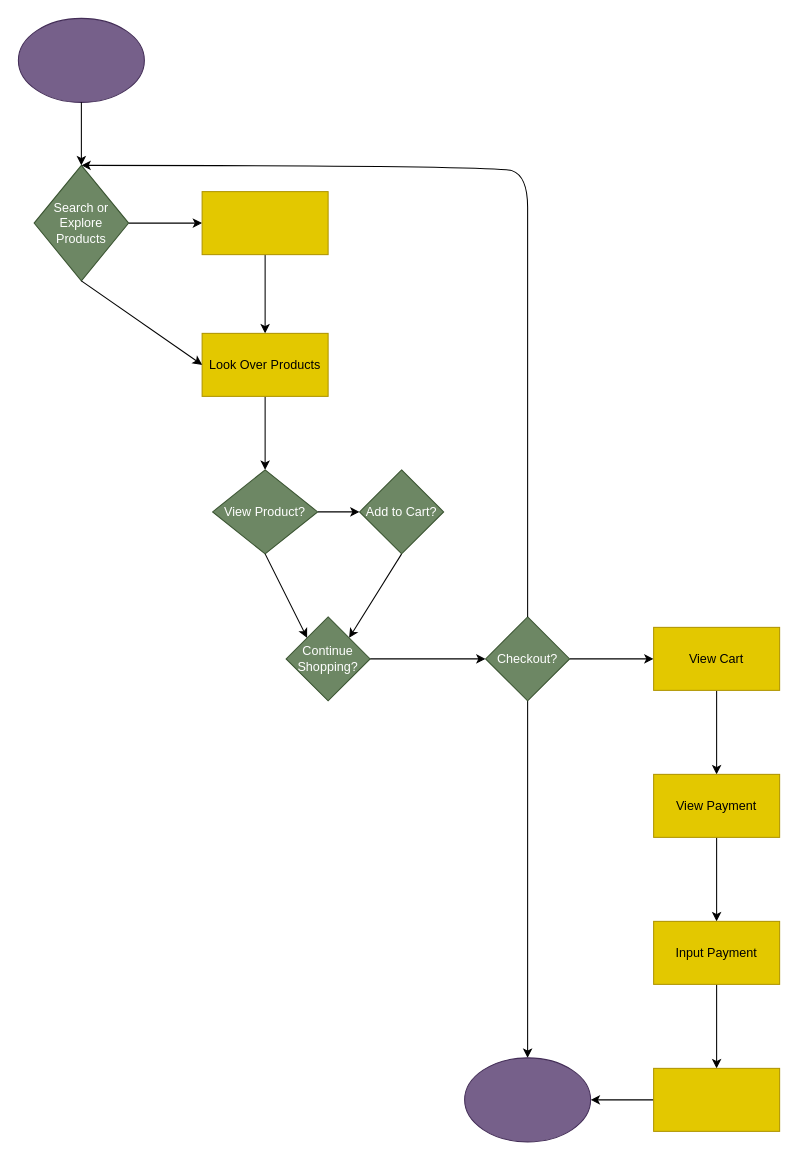
This 798x1160 diagram has some shape labels left out. The shapes that lost their labels are listed below. From the top down, each one's centre as x and y in pixels, then its label:
At pixel 80 59: "Enter Website".
At pixel 264 223: "Provide Search Input".
At pixel 527 1099: "Exit Website".
At pixel 716 1099: "View Confirmation and Send Email".
